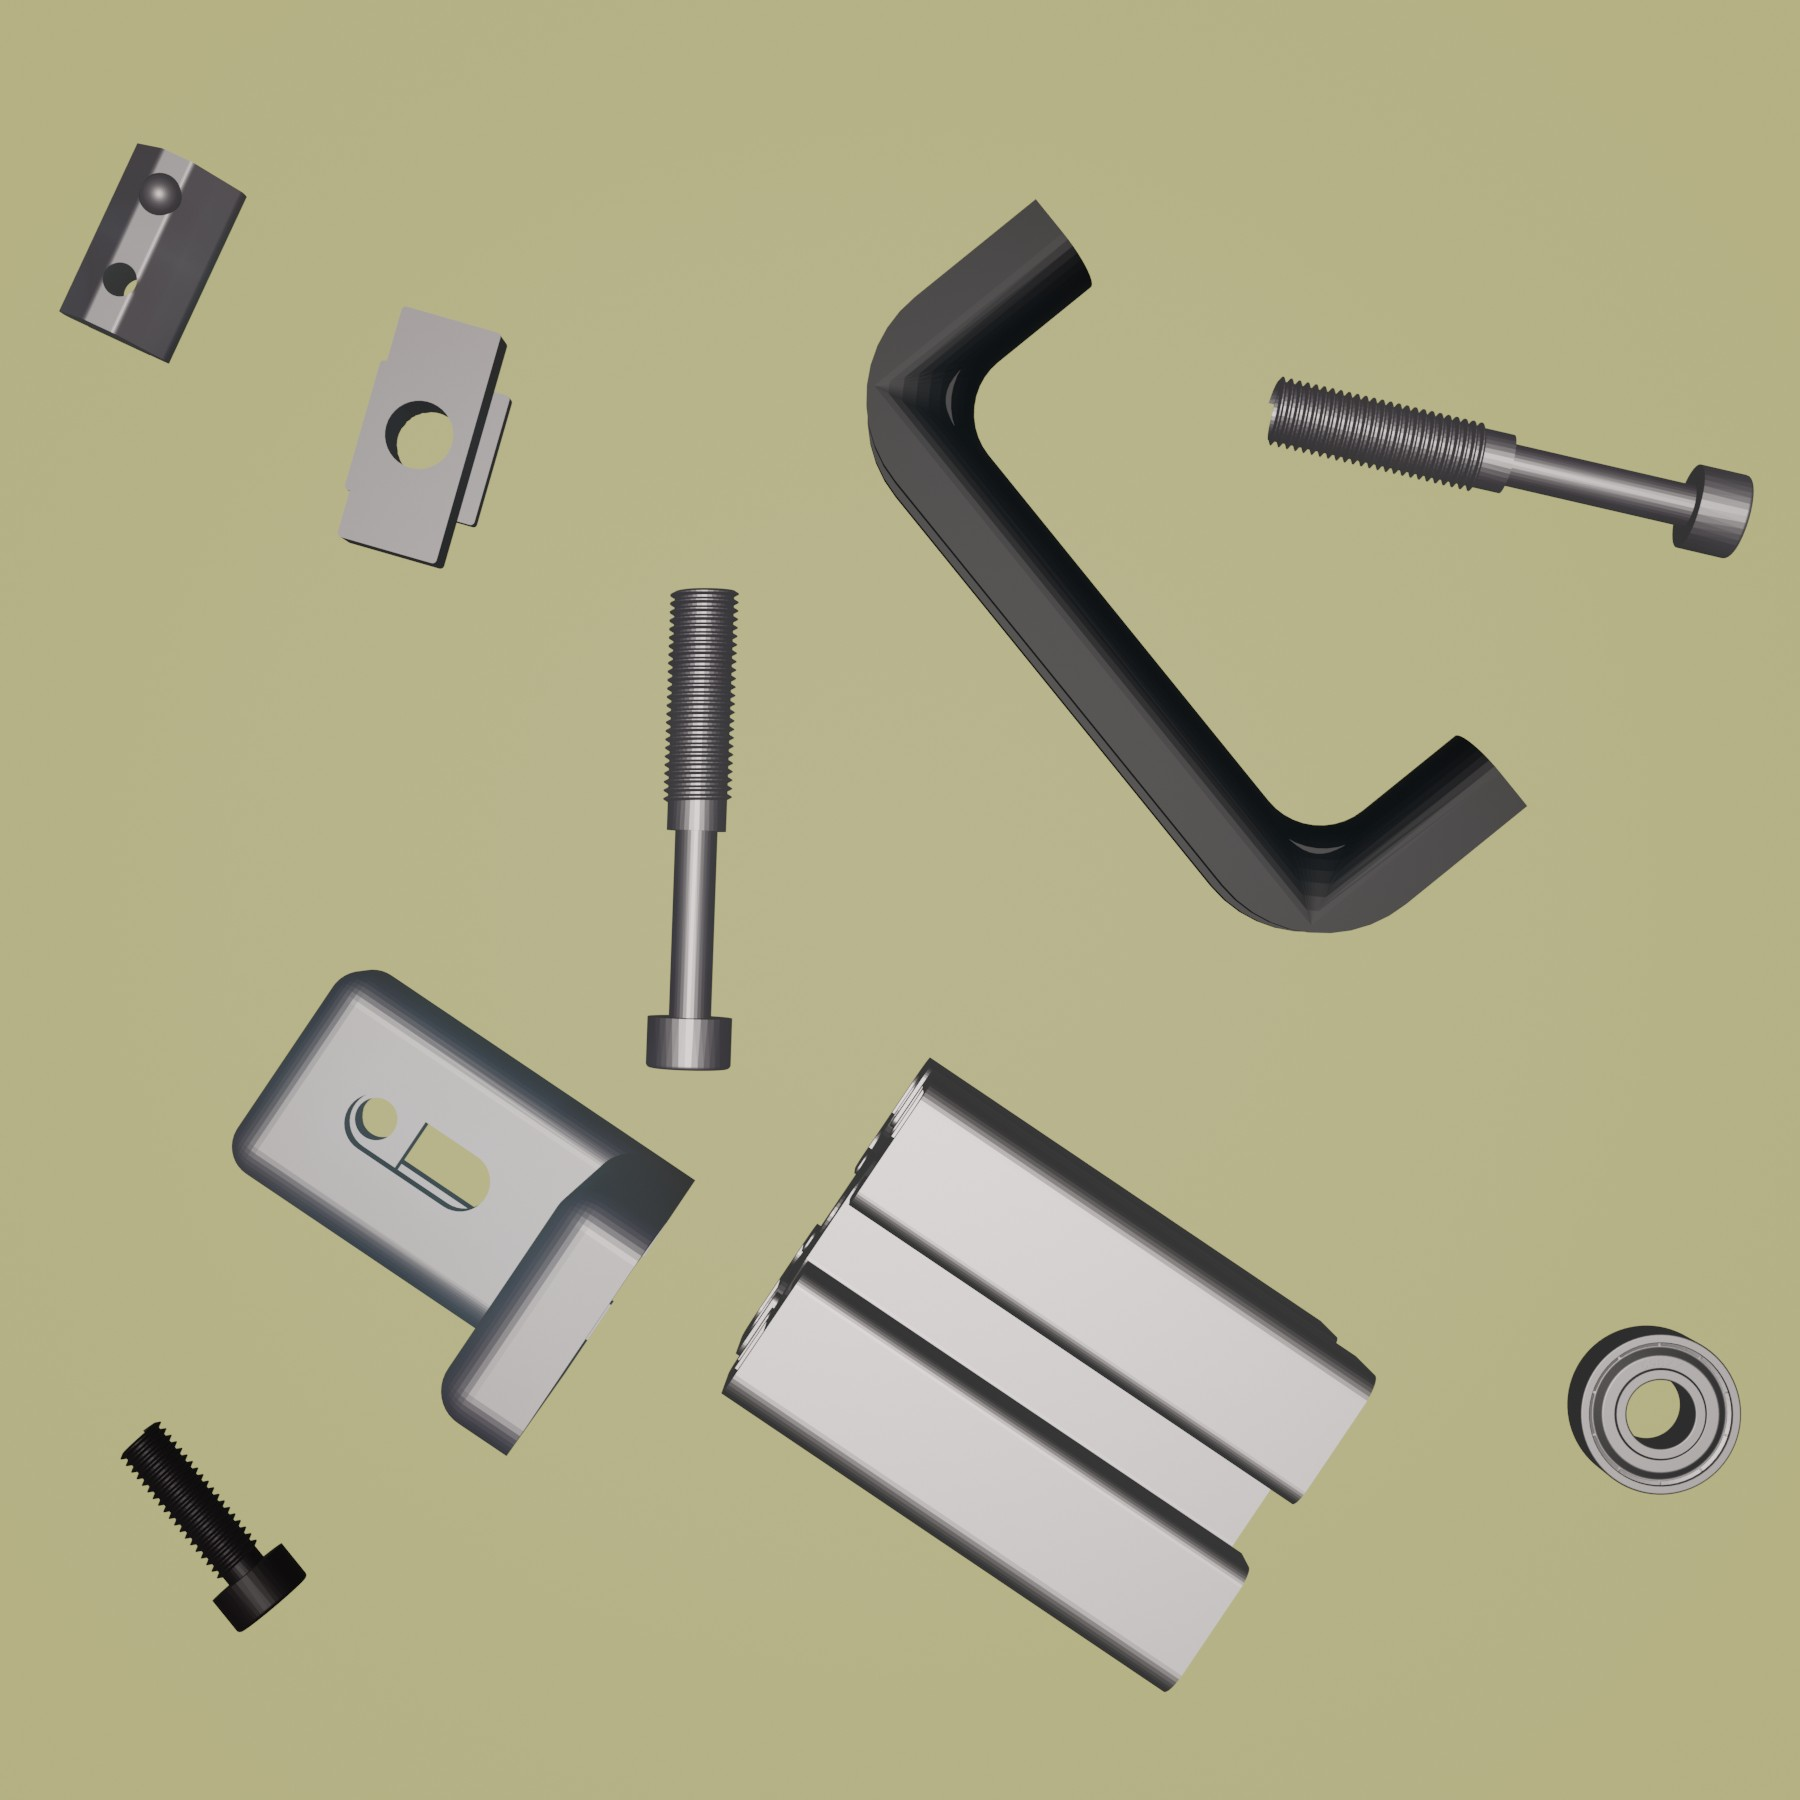Aluminium Extension: (719, 1053, 1378, 1696)
Ball Bearing: (1563, 1322, 1742, 1498)
Multiwinkel: (229, 968, 697, 1459)
Pull Handle: (864, 198, 1528, 935)
Shoulder Socket Head Cap Screw: (1263, 373, 1755, 560), (643, 584, 742, 1073)
Socket Head Cap Screw: (117, 1418, 308, 1634)
T Nut Square: (338, 300, 518, 574)
T Spring Nut: (58, 138, 247, 364)
